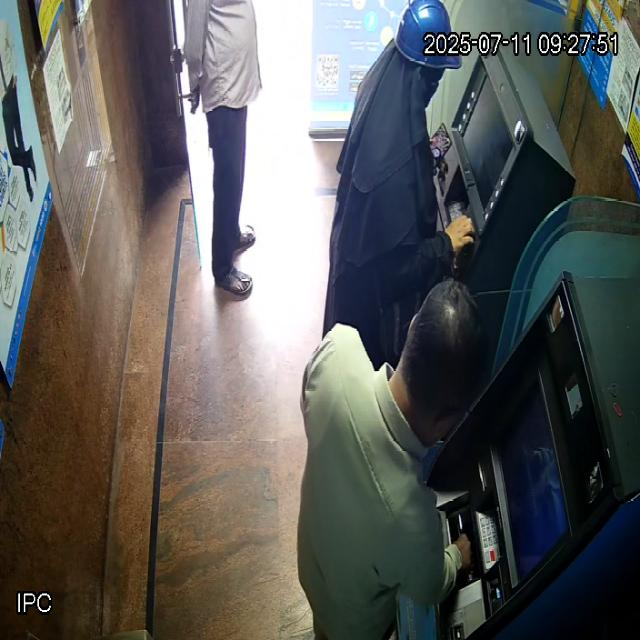helmet: (394, 0, 463, 108)
no_helmet: (386, 279, 490, 448)
